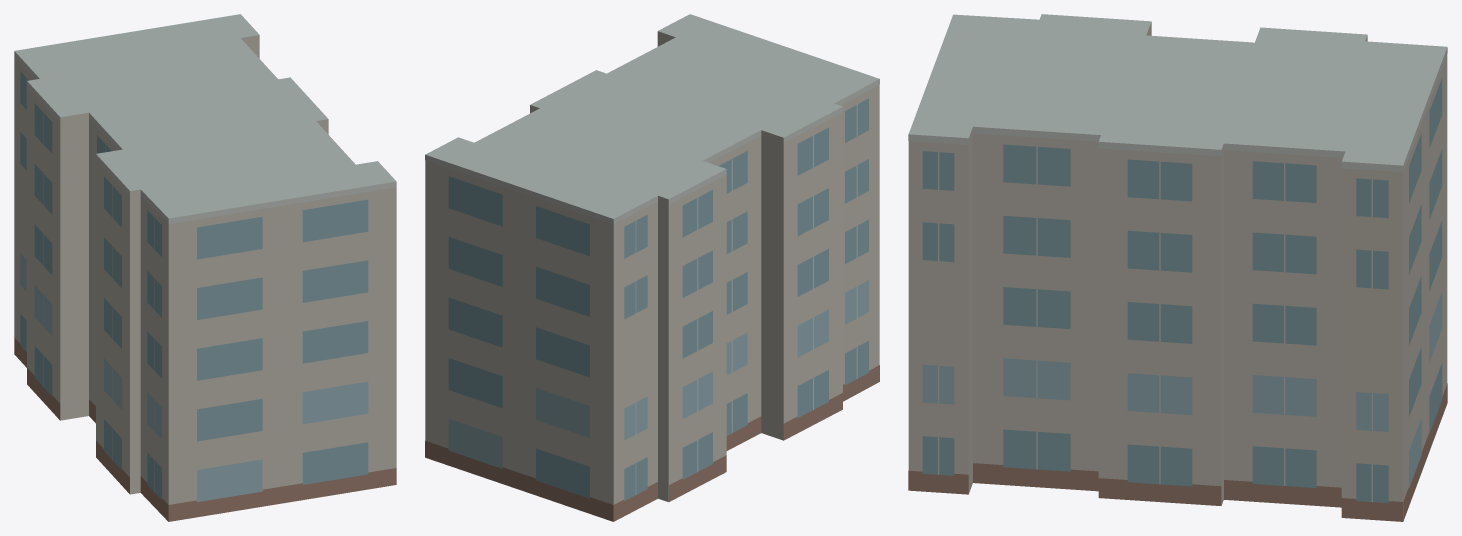
The model's file is survey-upis-32990991.glb.
3 renders of one model, left to right at view 1: azimuth 30°, elevation 25°; view 2: azimuth 150°, elevation 25°; view 3: azimuth 270°, elevation 25°, orthographic. The views are drawn at different scales.
Parts seen in each view (by area): view 1: survey-upis-32990991.tmp; view 2: survey-upis-32990991.tmp; view 3: survey-upis-32990991.tmp.
Boxes of the visible parts, left/top/right/bottom form: survey-upis-32990991.tmp: left=14, top=14, right=396, bottom=521; survey-upis-32990991.tmp: left=425, top=14, right=879, bottom=521; survey-upis-32990991.tmp: left=908, top=14, right=1447, bottom=521.
Bounding box in the file's own units: 12.06 × 13.2 × 18.11.
